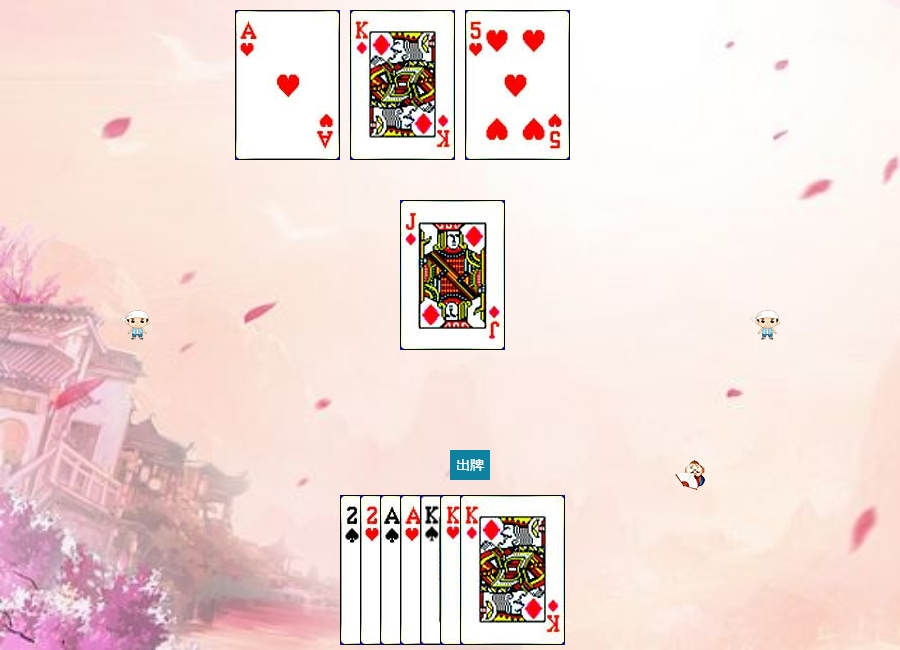11~1: (400, 200, 505, 350)
13~1: (350, 10, 455, 160), (460, 495, 565, 645)
13~3: (440, 495, 545, 645)
13~4: (420, 495, 525, 645)
14~3: (235, 10, 340, 160), (400, 495, 505, 645)
14~4: (380, 495, 485, 645)
15~3: (360, 495, 465, 645)
15~4: (340, 495, 445, 645)
5~3: (465, 10, 570, 160)
